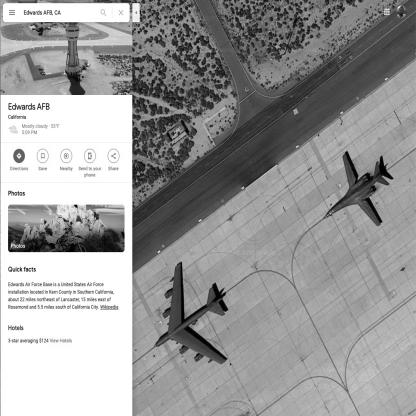B1: (324, 154, 391, 227)
B52: (155, 264, 228, 366)
